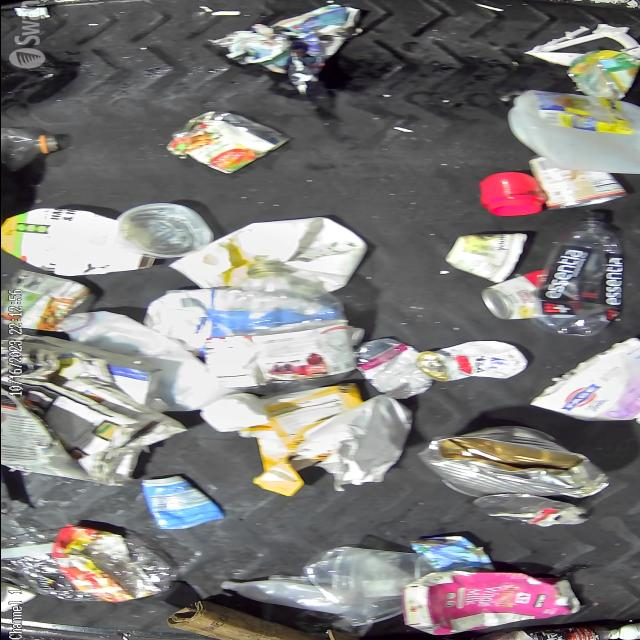can: (416, 424, 610, 498), (170, 108, 288, 174), (527, 154, 627, 210), (414, 340, 528, 382), (480, 269, 546, 319)
milk_jug: (58, 310, 215, 412), (504, 89, 640, 173)
non_white_jug: (402, 569, 580, 636)
plastic_bottle: (7, 526, 180, 602), (532, 210, 622, 336), (0, 123, 58, 173), (462, 624, 610, 640)
